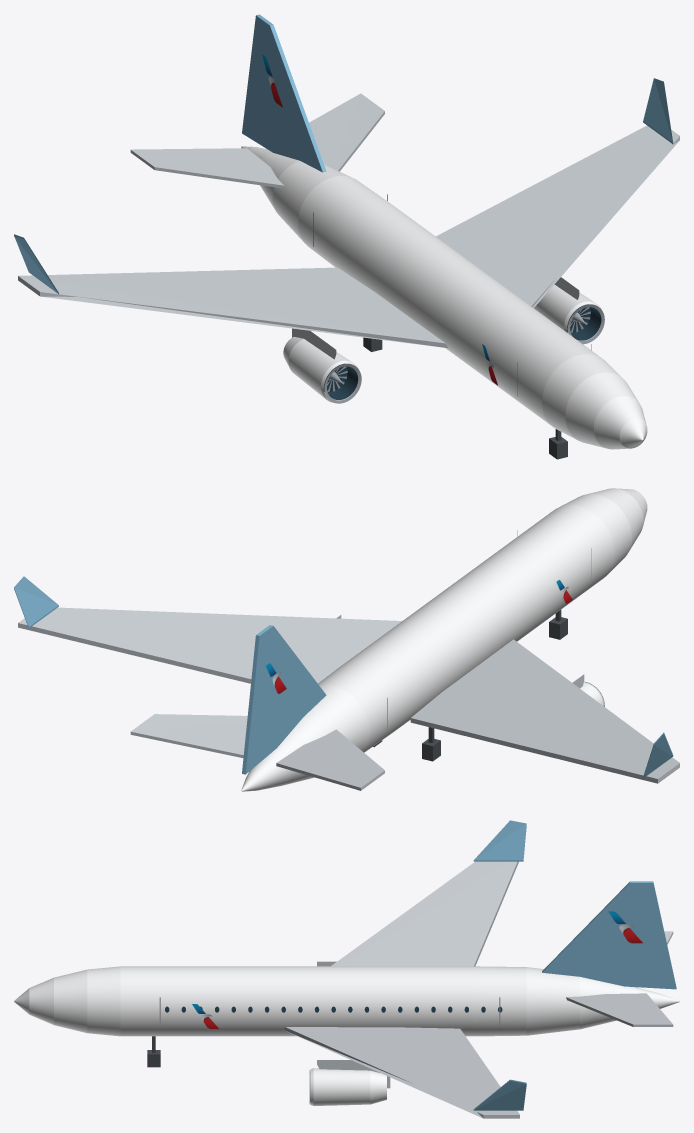
File: a320-AAL-v2.gltf
The picture shows the model from 3 angles, top to bottom: view 1: azimuth 30°, elevation 25°; view 2: azimuth 150°, elevation 25°; view 3: azimuth 270°, elevation 25°; orthographic projection. The views are drawn at different scales.
Visible parts, largest first — view 1: object 1, Gear; view 2: object 1, Gear; view 3: object 1.
Boxes of the visible parts, left/top/right/bottom form: object 1: left=14, top=14, right=679, bottom=449; Gear: left=363, top=337, right=567, bottom=459; object 1: left=14, top=488, right=679, bottom=791; Gear: left=373, top=610, right=567, bottom=761; object 1: left=14, top=820, right=679, bottom=1118.
Bounding box in the file's own units: 35 × 11.51 × 38.
Materials: 7 (1 with a texture image).
